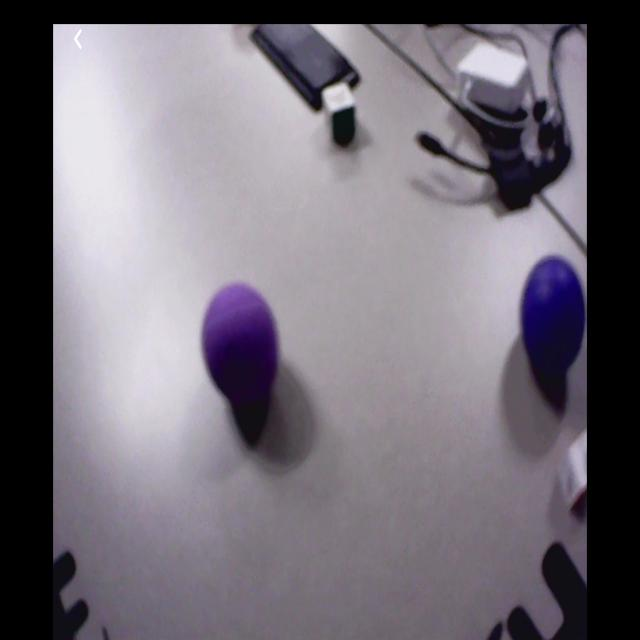ball: (203, 284, 278, 388), (525, 255, 586, 364)
